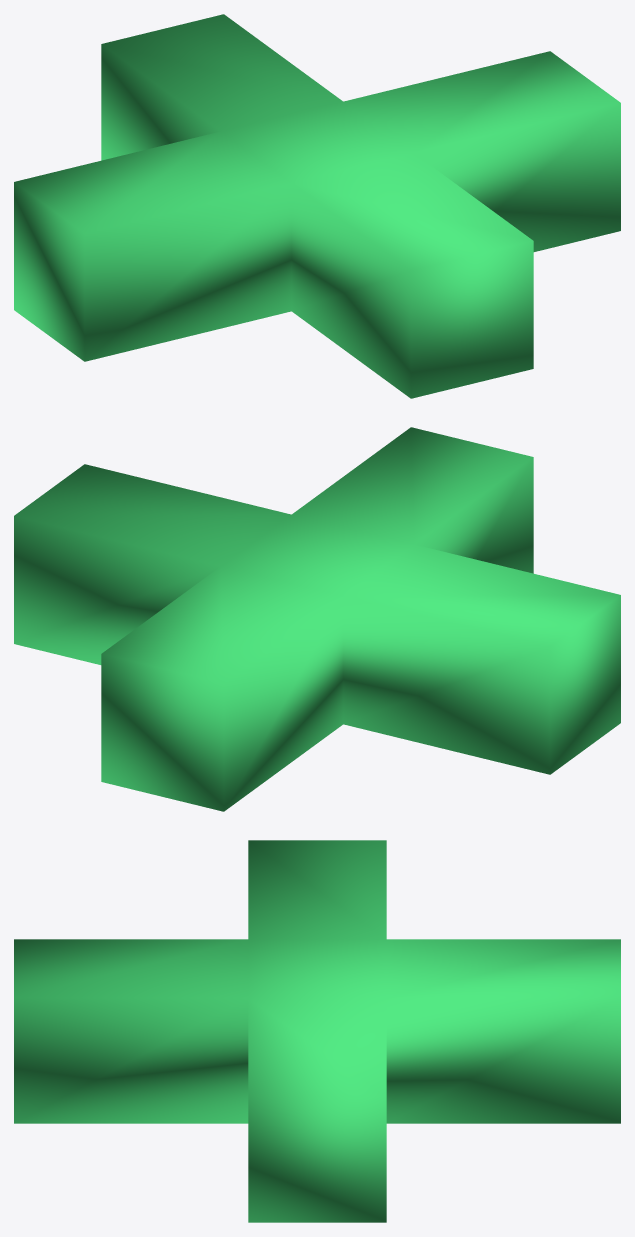
File: green_plus.glb
3 views of the same model, one above another, from view 1: azimuth 30°, elevation 25°; view 2: azimuth 150°, elevation 25°; view 3: azimuth 270°, elevation 25° (orthographic). The views are drawn at different scales.
Parts seen in each view (by area): view 1: Plus; view 2: Plus; view 3: Plus.
Boxes of the visible parts, <box> form: Plus: <box>14,14,620,398</box>; Plus: <box>14,427,620,811</box>; Plus: <box>14,840,620,1222</box>.
Bounding box in the file's own units: 0.2612 × 0.0596 × 0.2612.
